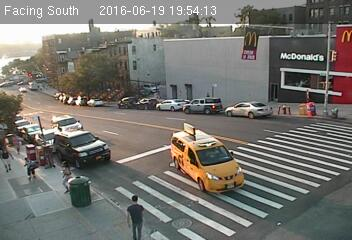neg: (66, 176, 91, 208), (200, 144, 221, 171), (1, 92, 22, 119), (50, 113, 69, 139), (82, 122, 101, 146), (4, 66, 18, 85), (27, 115, 38, 130), (25, 68, 33, 78)
pos: (117, 192, 152, 239), (49, 158, 77, 195), (16, 152, 41, 186)
